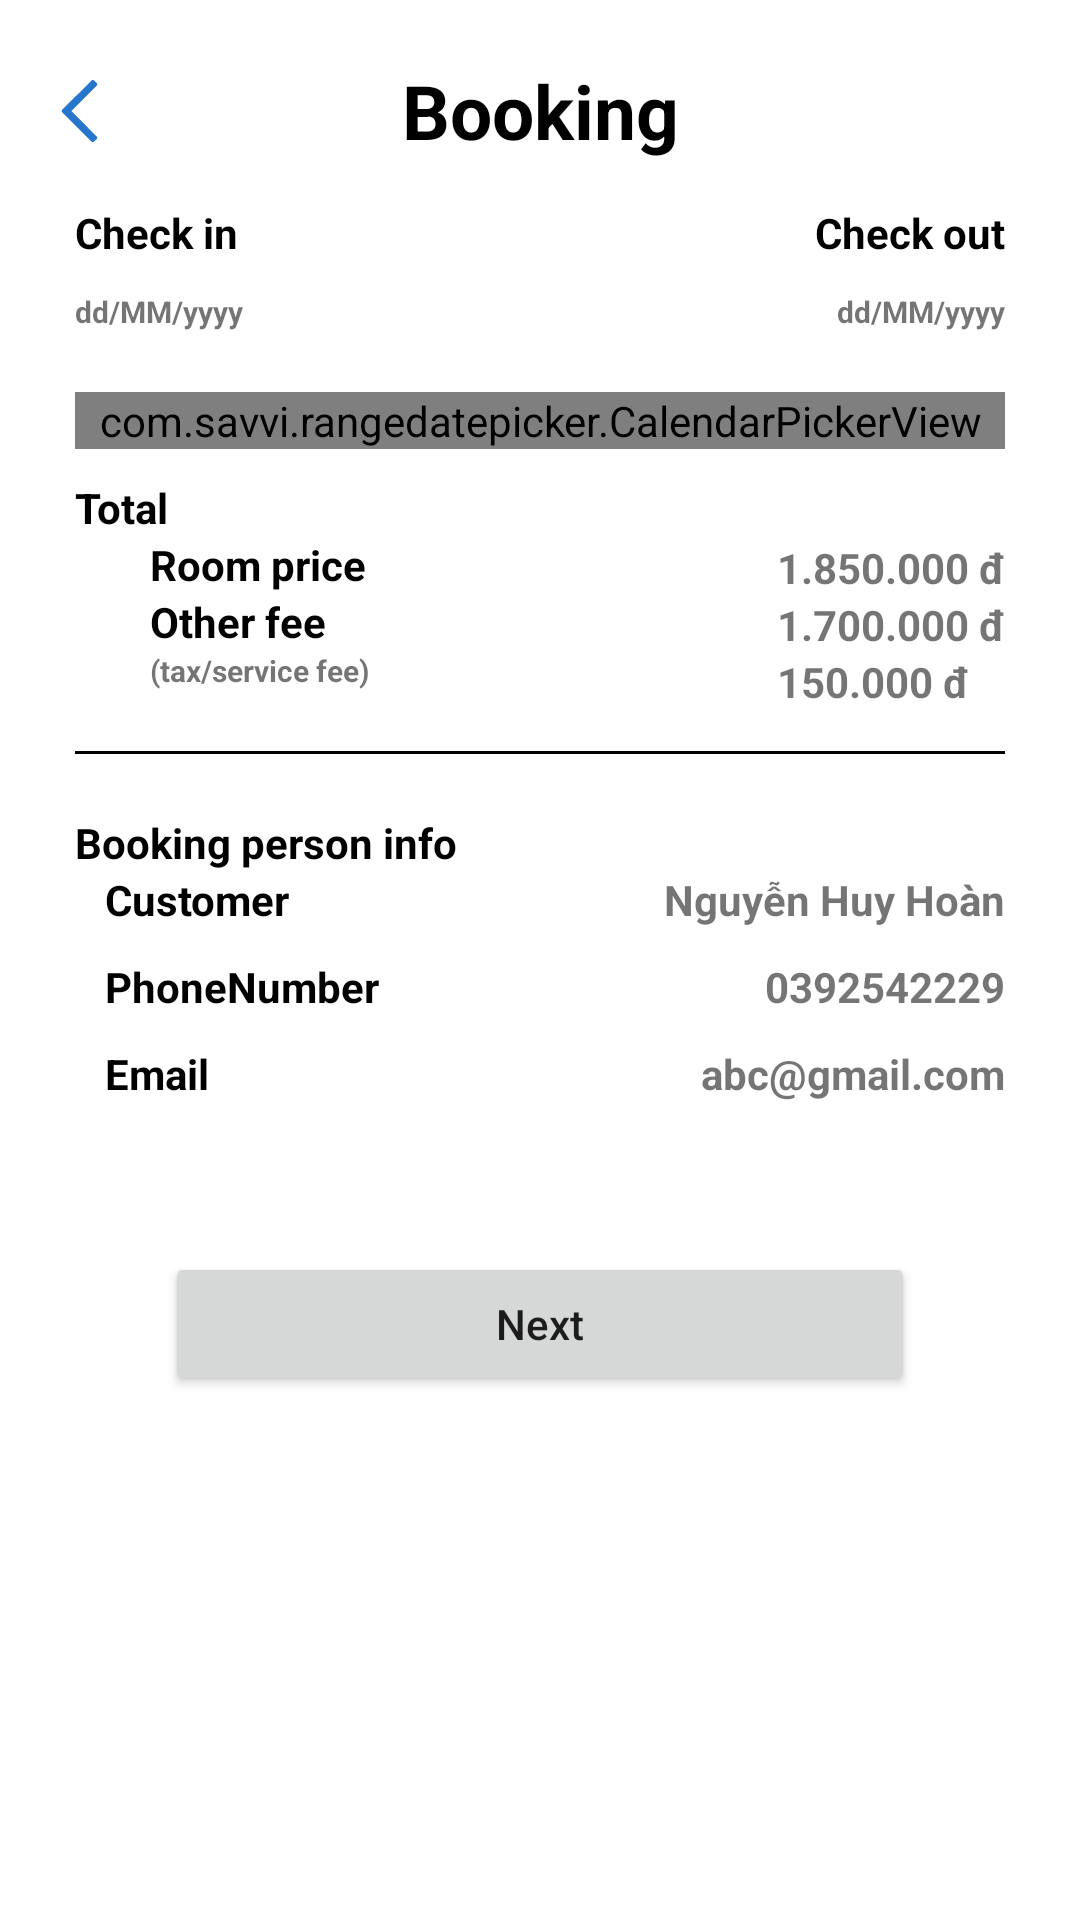

Locate icon controls on the screen. Image size 1080 × 1920, boxes as box=[x1, y1, x2, y2].
back: box=[61, 80, 98, 143]
